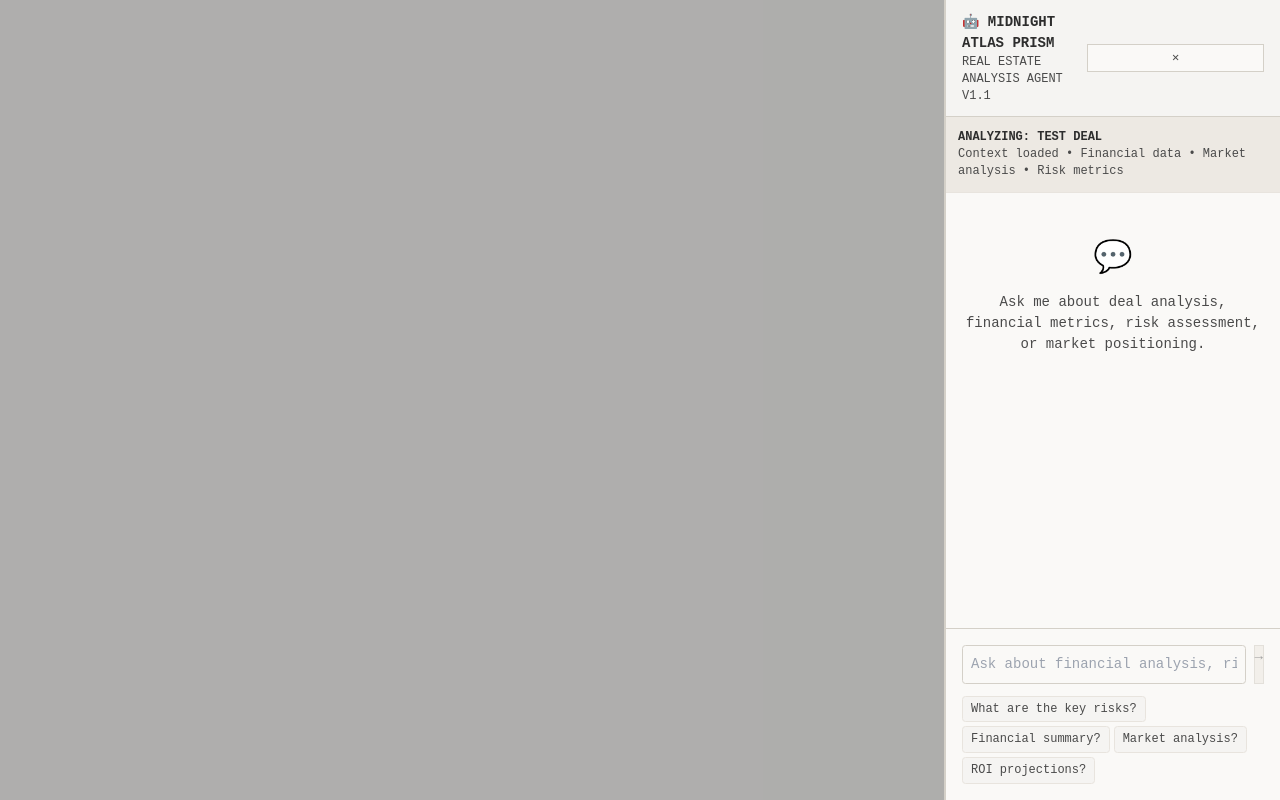
it: AISidebar › handles quick question clicks
The width and height of the screenshot is (1280, 800).
Click the button "Financial summary?".
click(1036, 740)  # box [962,726,1110,753]
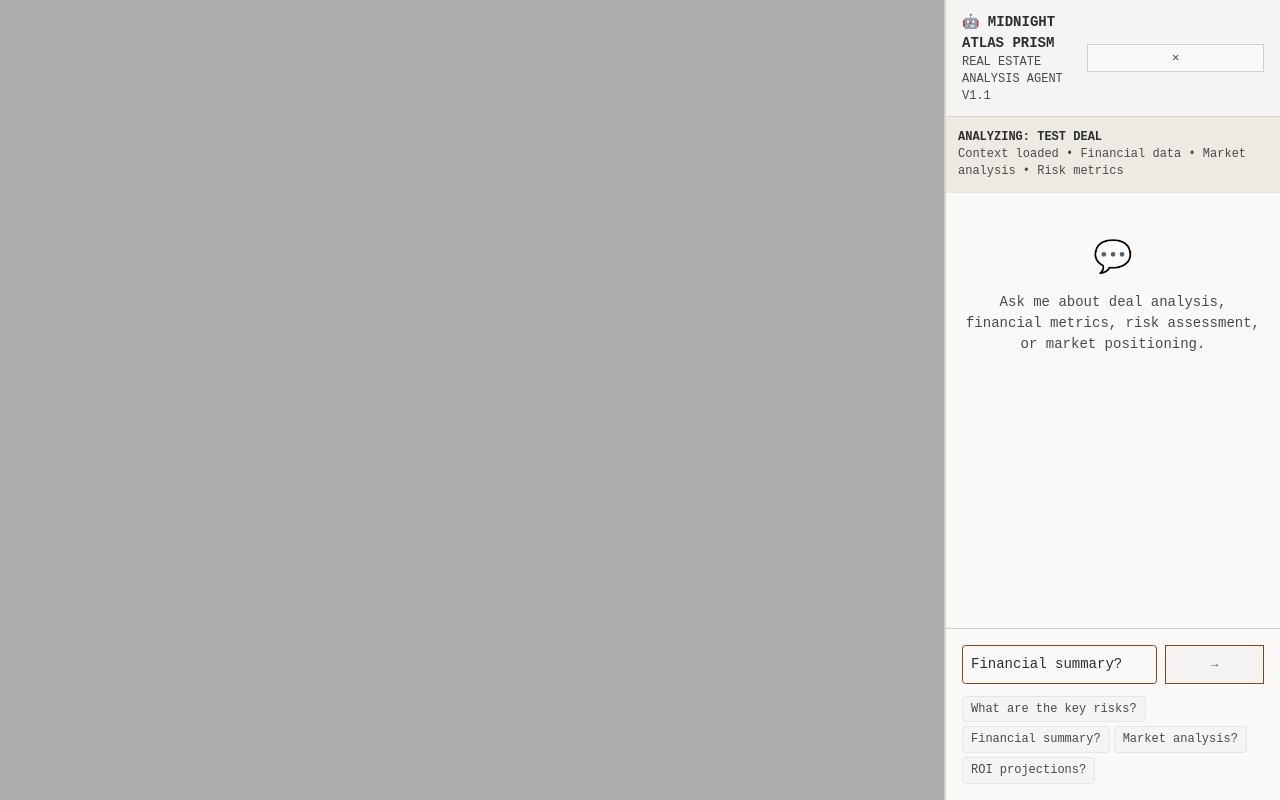
Now the field with placeholder "Ask about financial analysis, risks, opportunities..." holds "Financial summary?", box [962,645,1157,684]
